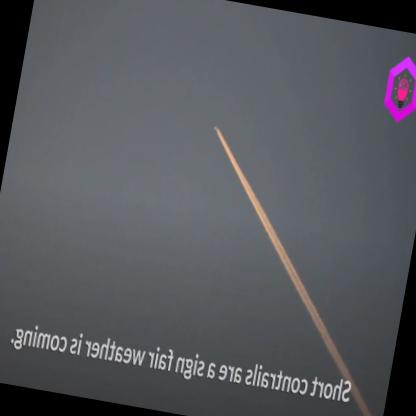plane: (211, 122, 219, 133)
